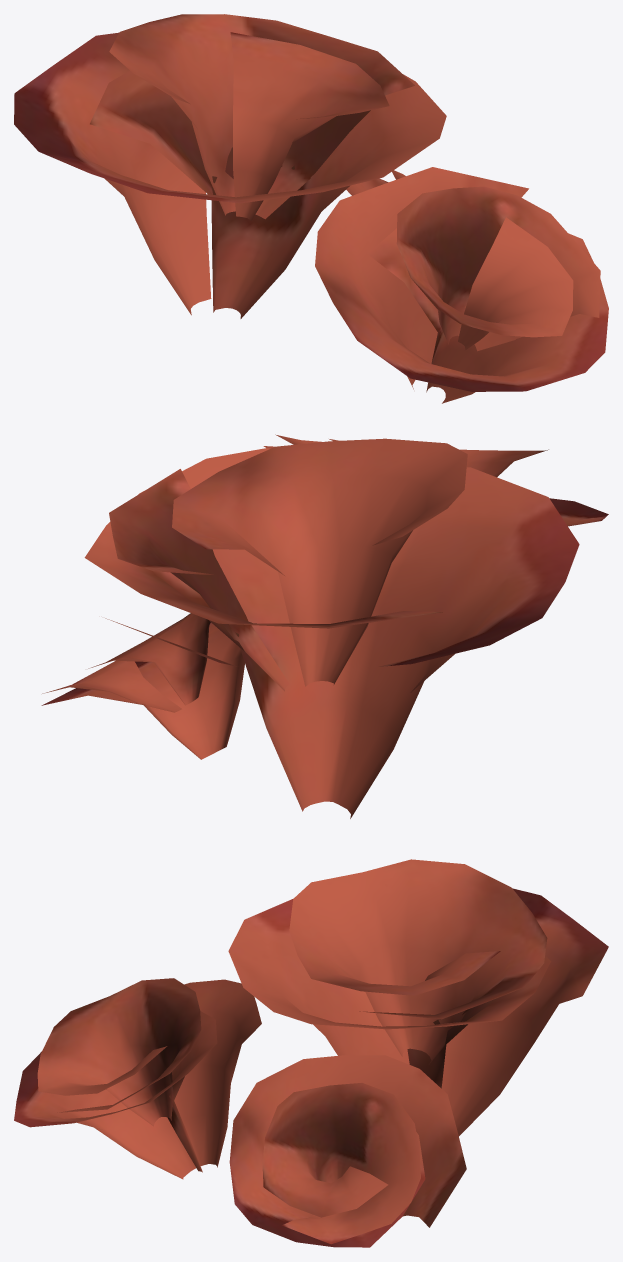
File: softcoral-10.glb
3 renders of one model, top to bottom at view 1: azimuth 30°, elevation 25°; view 2: azimuth 150°, elevation 25°; view 3: azimuth 270°, elevation 25°, orthographic. The views are drawn at different scales.
Parts seen in each view (by area): view 1: coral18; view 2: coral18; view 3: coral18.
Part boxes in pixels (box(x1,y1,x2,y2)): coral18: box(14, 14, 608, 403); coral18: box(41, 434, 608, 818); coral18: box(14, 859, 608, 1247).
Bounding box in the file's own units: 1.34 × 0.844 × 1.77.
Materials: 1 (1 with a texture image).
